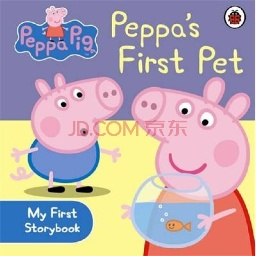Peppa: (121, 77, 255, 256)
